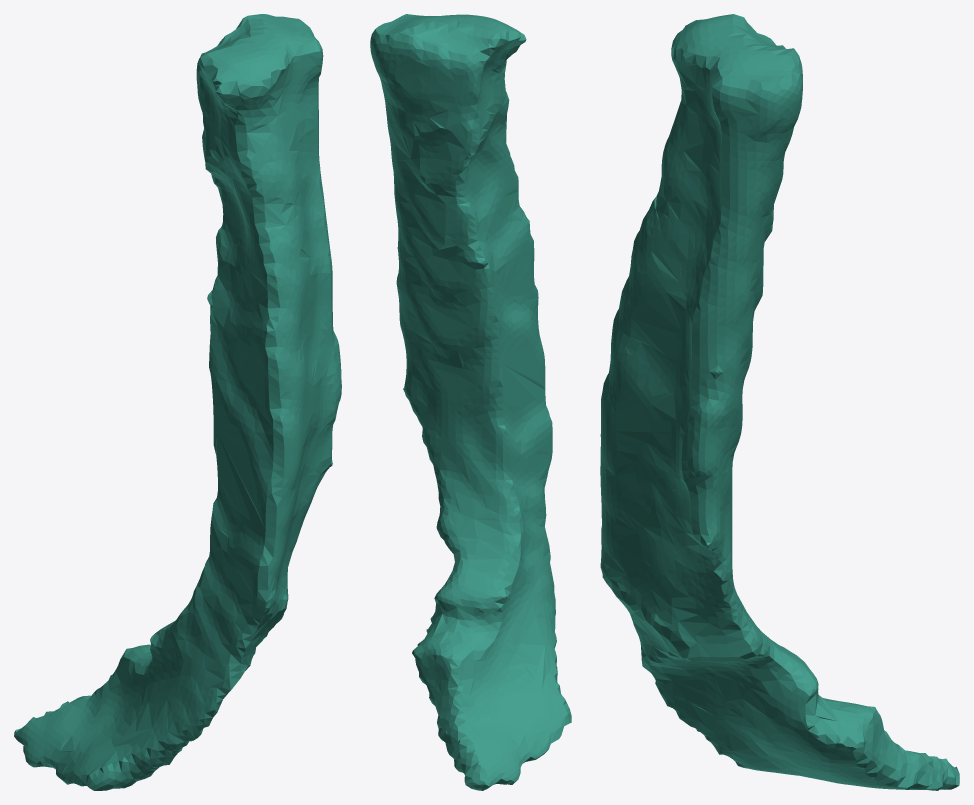
Rendered from Model_10064_LH__Area_30_of_cortex_(A30).obj.
3 views of the same model, side by side, from view 1: azimuth 30°, elevation 25°; view 2: azimuth 150°, elevation 25°; view 3: azimuth 270°, elevation 25° (orthographic). The views are drawn at different scales.
Size of the model in its own units: 2.79 by 8.98 by 3.56.
